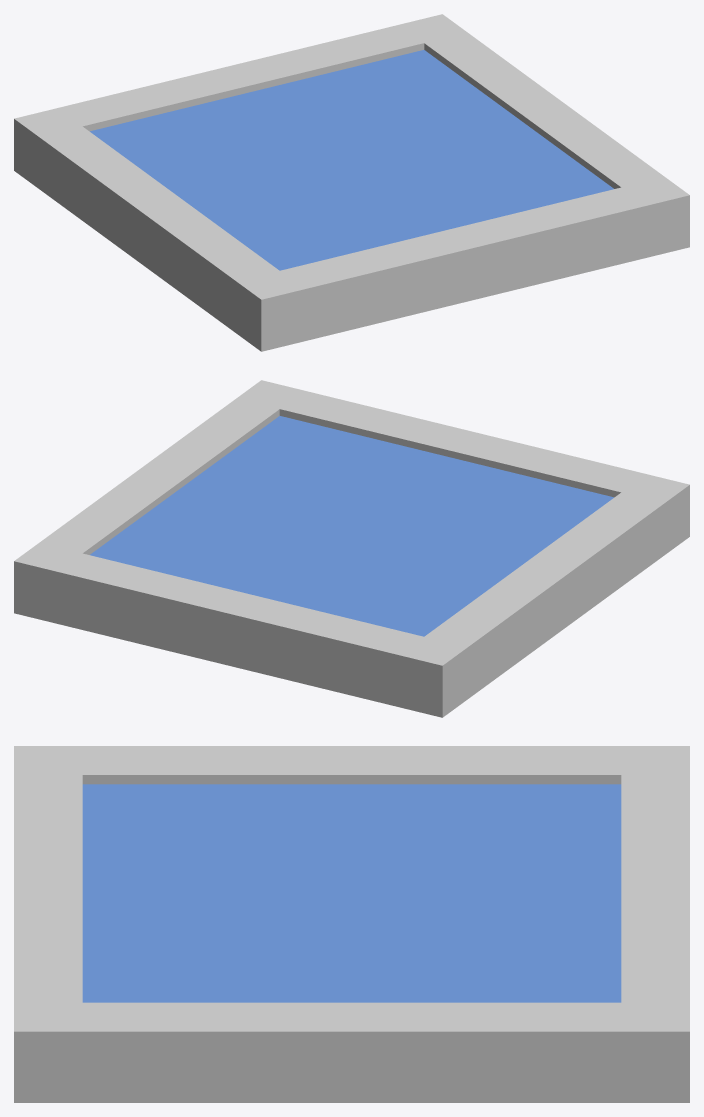
File: pool.fbx
The picture shows the model from 3 angles, top to bottom: view 1: azimuth 30°, elevation 25°; view 2: azimuth 150°, elevation 25°; view 3: azimuth 270°, elevation 25°; orthographic projection. The views are drawn at different scales.
Visible parts, largest first — view 1: Cube.002; view 2: Cube.002; view 3: Cube.002.
Boxes of the visible parts, x1,y1,x2,y2 form: Cube.002: (14,14,689,351); Cube.002: (14,380,689,717); Cube.002: (14,746,689,1102).
Size of the model in its own units: 3850 by 447 by 3850.
